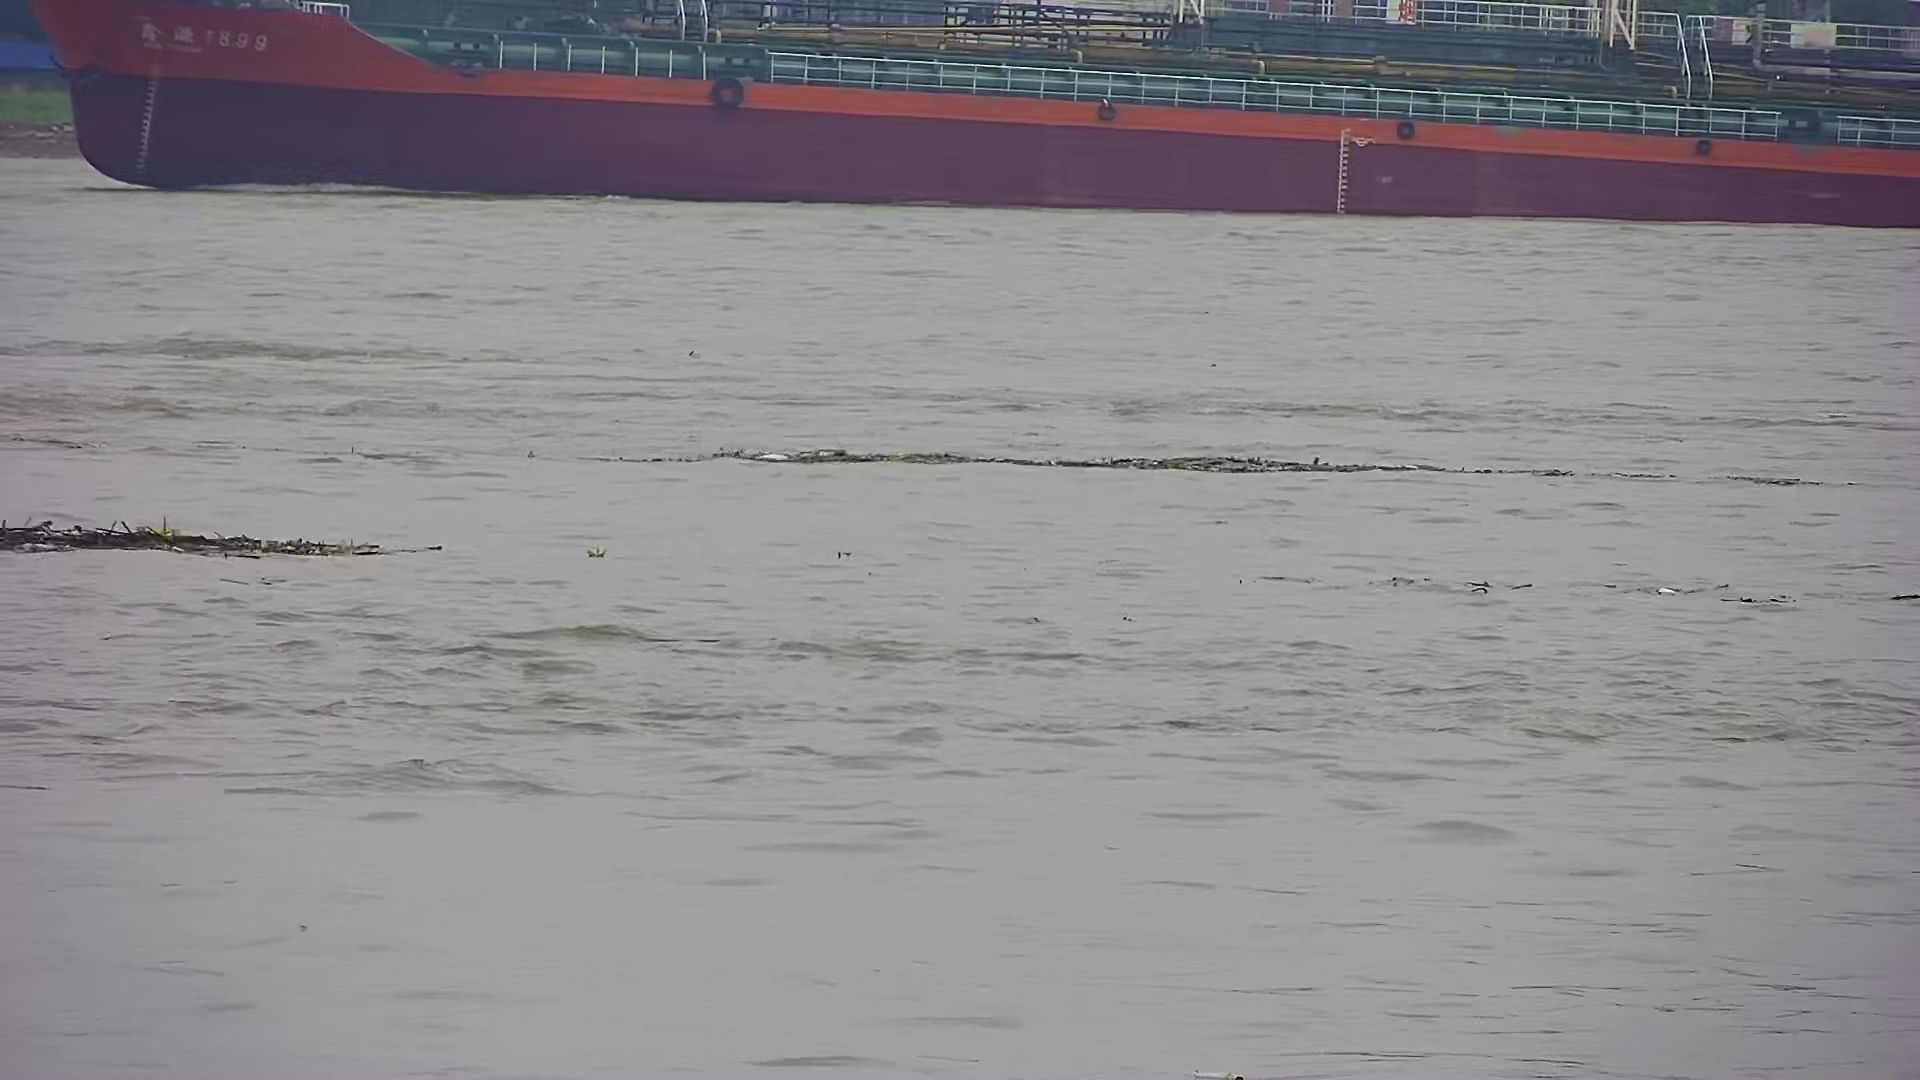grass: (1, 495, 458, 579)
ship: (20, 3, 1913, 244)
